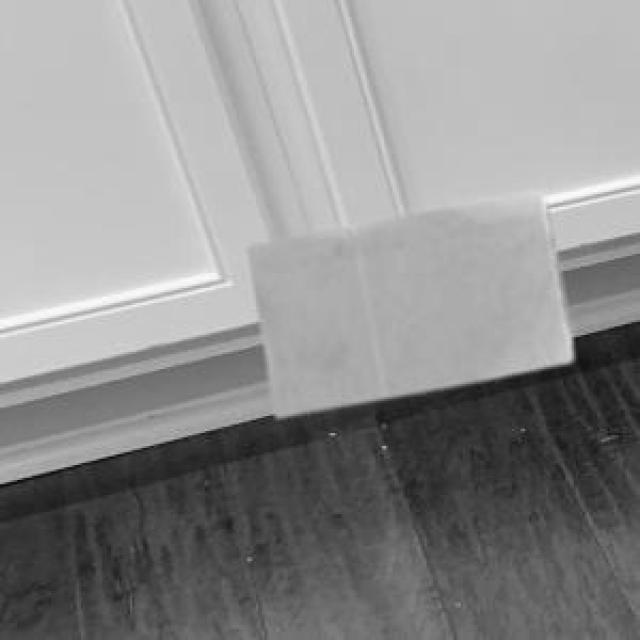paper: (243, 190, 568, 412)
